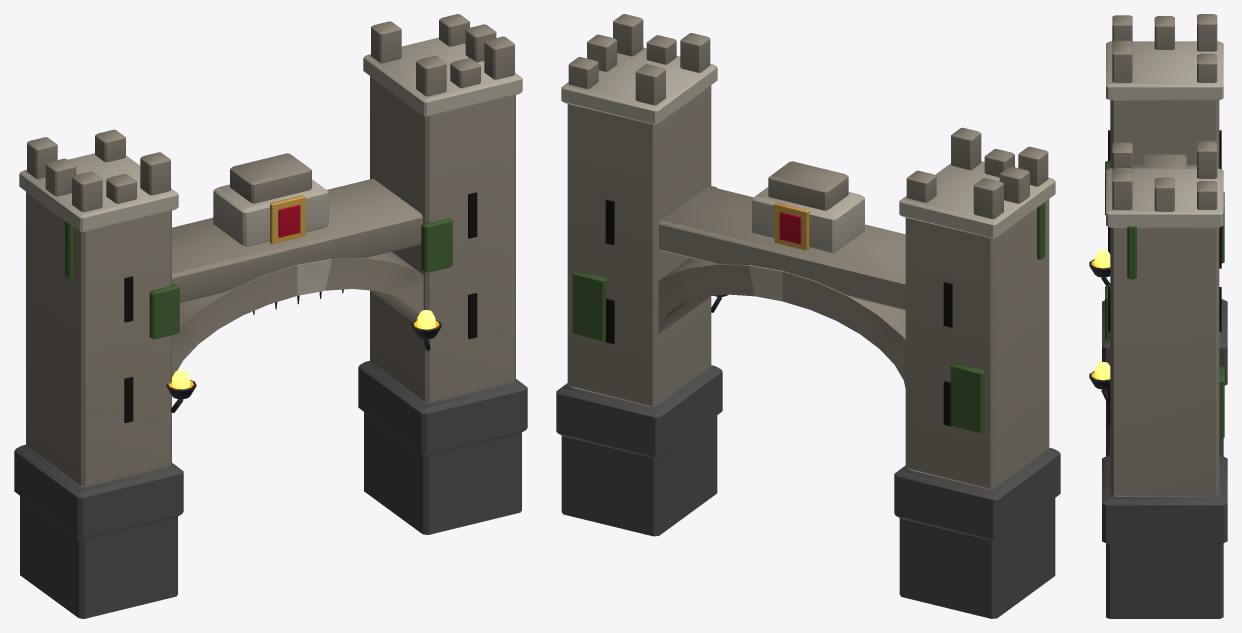
Rendered from lmf_selantis_arch.glb.
3 renders of one model, left to right at view 1: azimuth 30°, elevation 25°; view 2: azimuth 150°, elevation 25°; view 3: azimuth 270°, elevation 25°, orthographic. The views are drawn at different scales.
Visible parts, largest first — view 1: body; view 2: body; view 3: body.
Boxes of the visible parts, x1=… form: body: x1=14, y1=14, x2=527, y2=618; body: x1=556, y1=14, x2=1060, y2=618; body: x1=1089, y1=14, x2=1227, y2=618.
Bounding box in the file's own units: 17.8 × 17.65 × 5.06.
